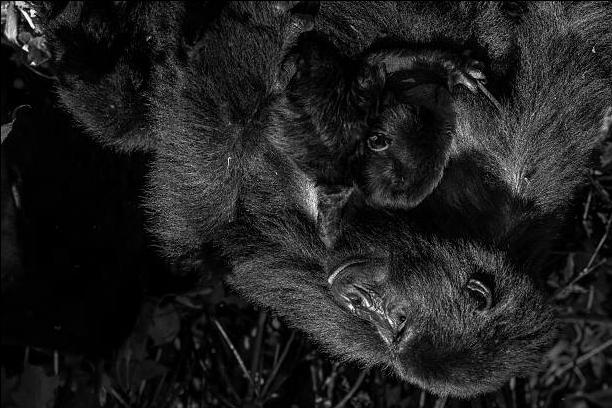goriile_montagne: (157, 8, 560, 396)
